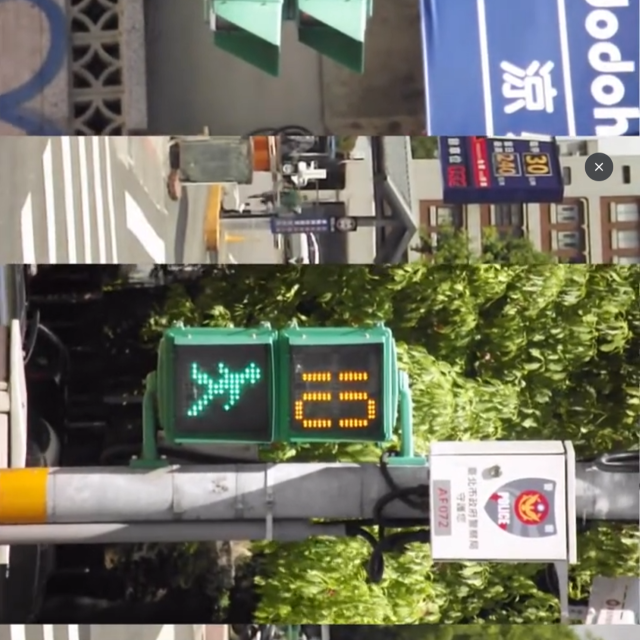green_light: (172, 333, 391, 438)
